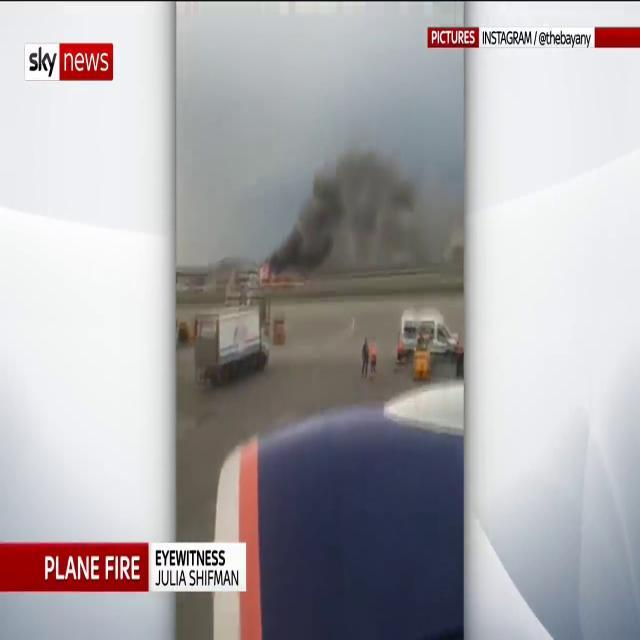Smoke: (273, 131, 462, 281)
